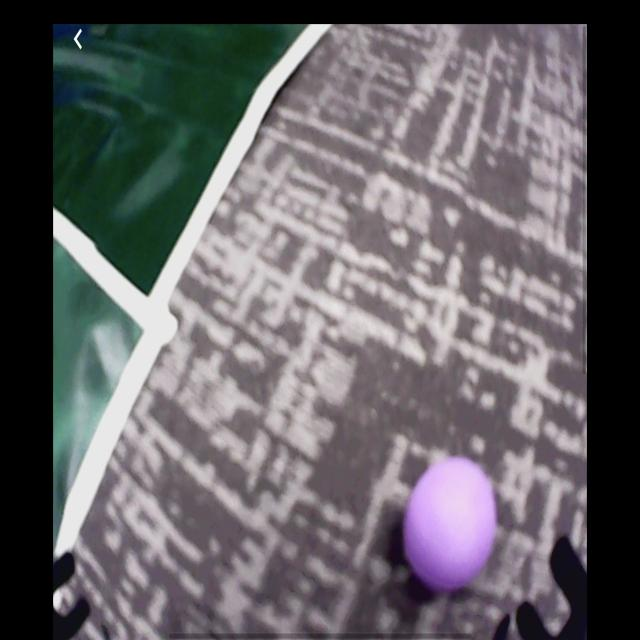ball: (406, 458, 497, 592)
